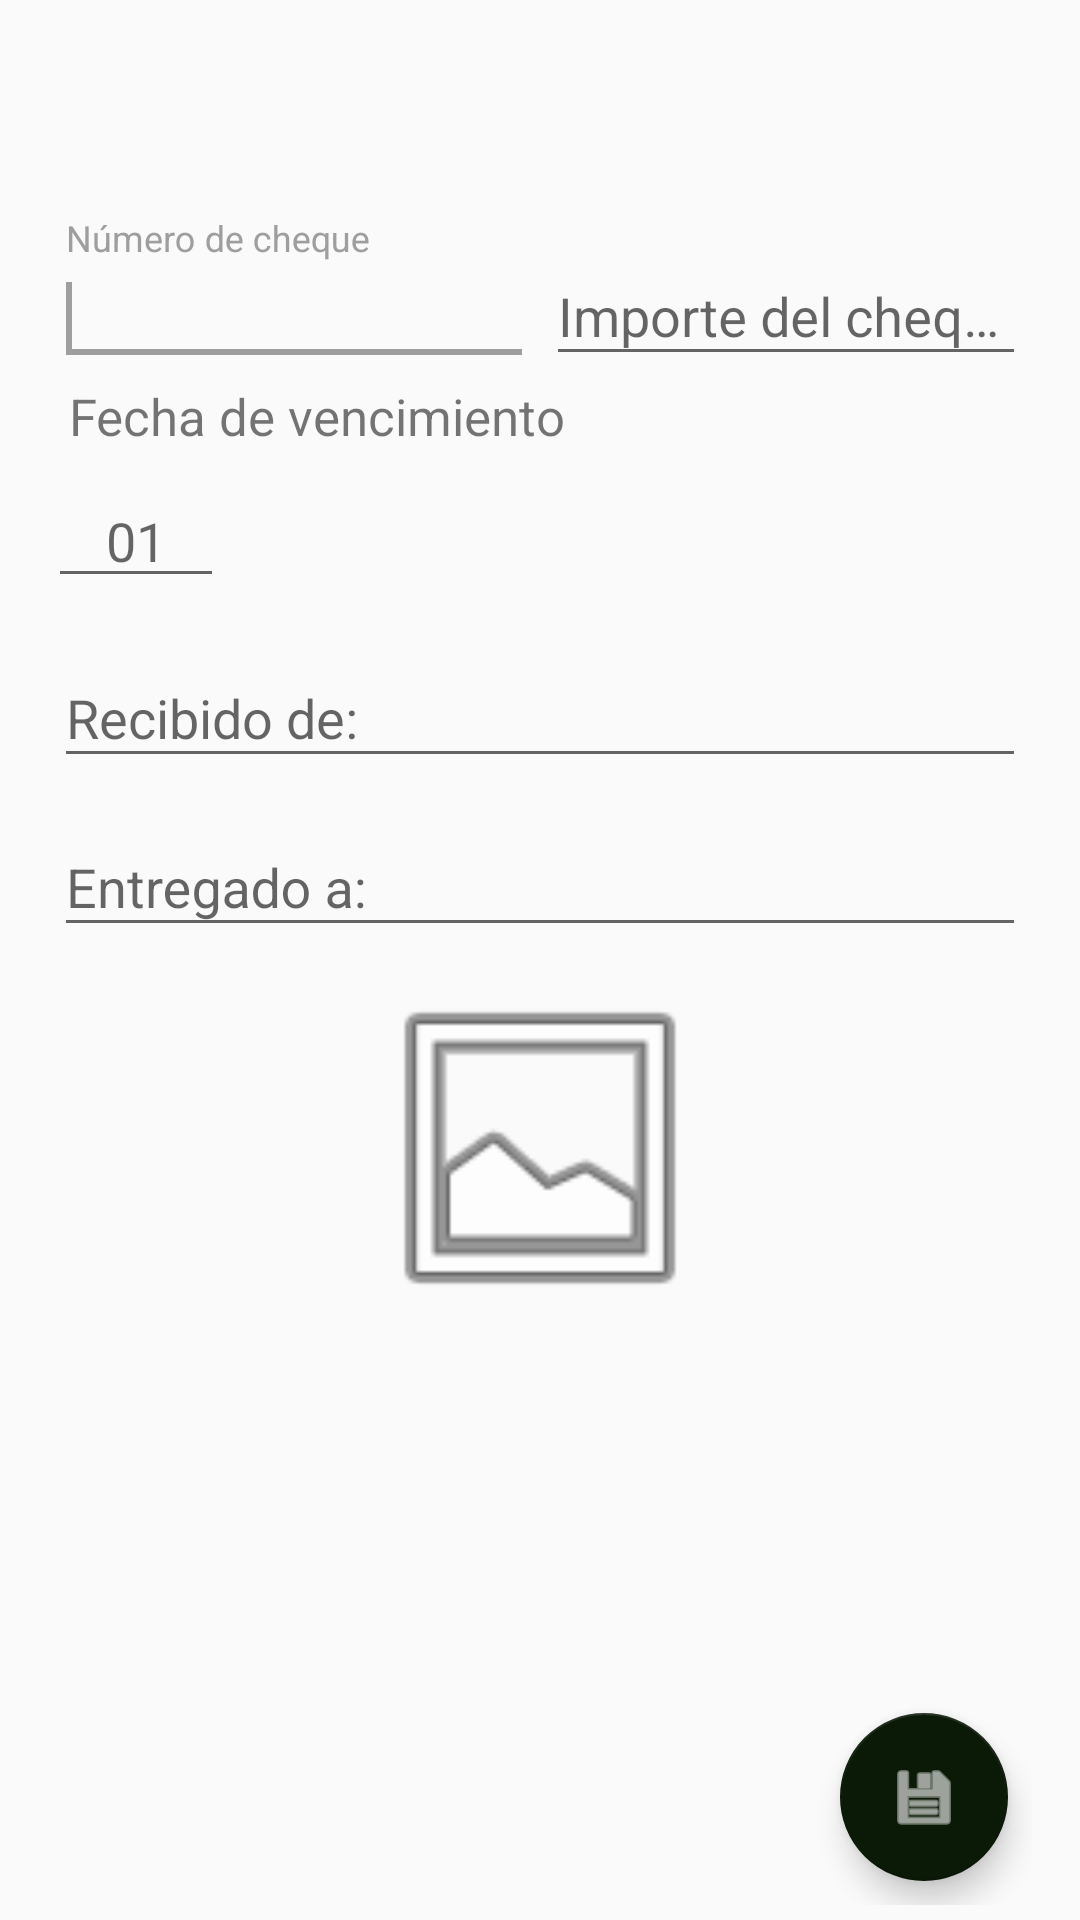

Where to tap for icons on this 1080px x 1920px app screen, as (x,y):
gallery: (540,1148)
save: (924,1797)
